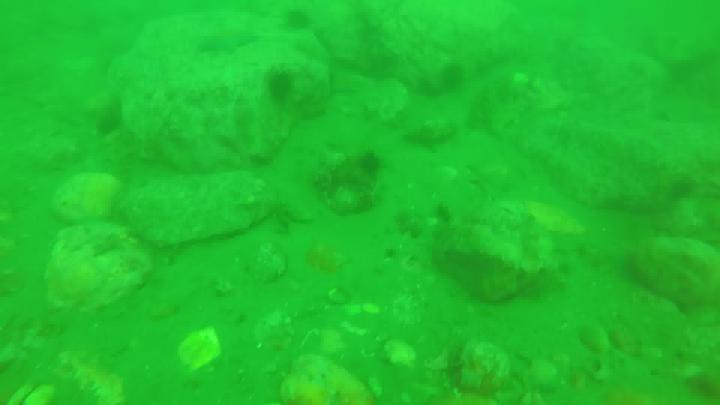echinus: (266, 70, 296, 101), (438, 63, 464, 96), (286, 10, 313, 32), (366, 151, 384, 176)
scallop: (379, 337, 418, 368)
